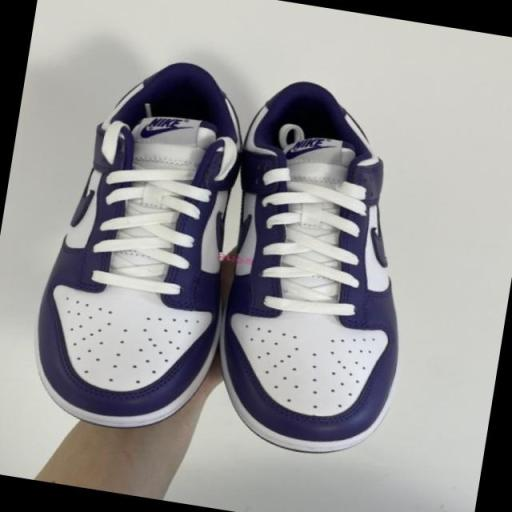Nike: (138, 123, 185, 146), (150, 114, 183, 132)
